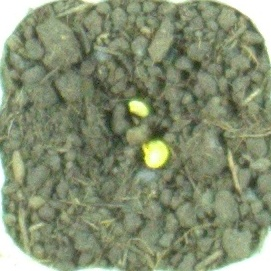pepper seed: (56, 54, 227, 224), (52, 39, 204, 160)
